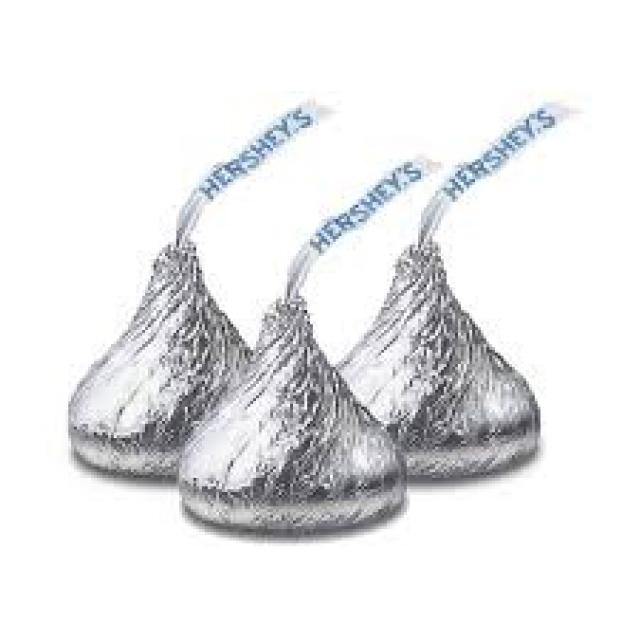kisses: (173, 284, 410, 540), (324, 239, 543, 489), (70, 238, 266, 482)
